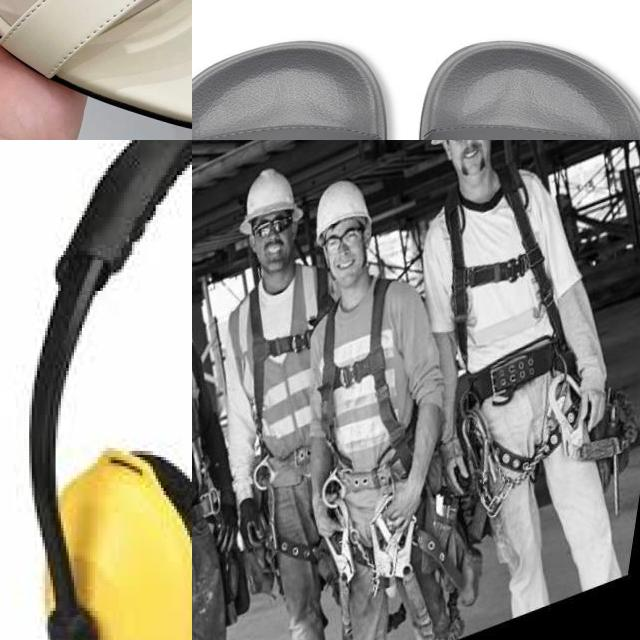Ear-protection: (37, 441, 192, 640)
Harness: (445, 168, 576, 370), (319, 279, 413, 472)
Sandals: (192, 20, 640, 140), (0, 0, 192, 140)
